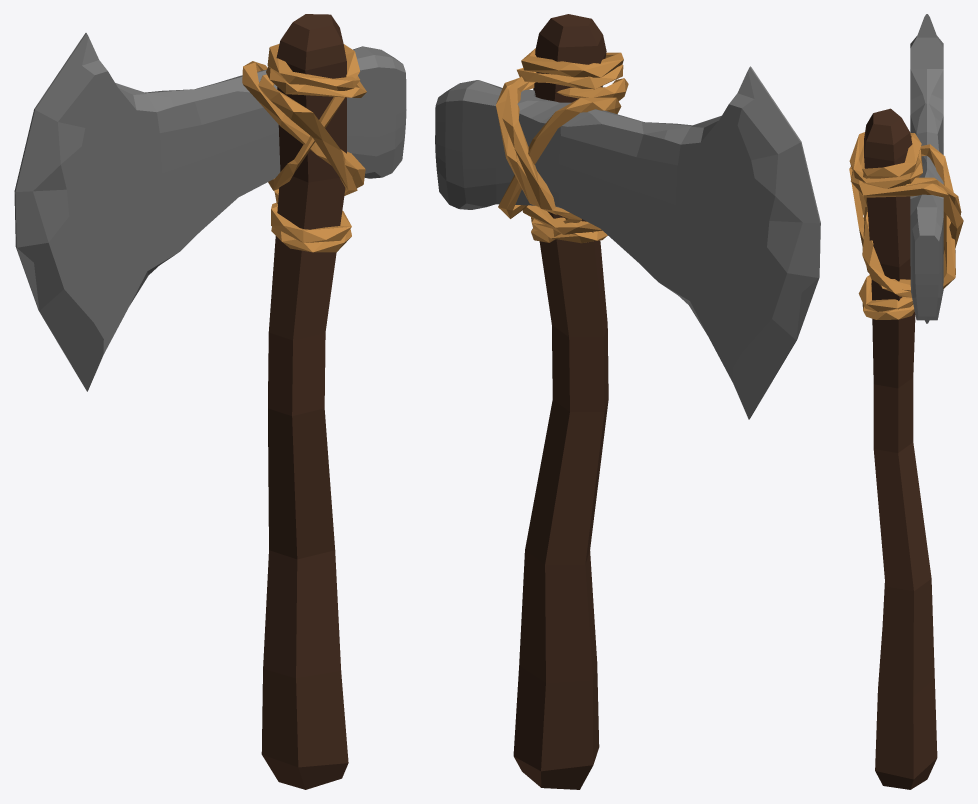
The model's file is axe.fbx.
3 views of the same model, side by side, from view 1: azimuth 30°, elevation 25°; view 2: azimuth 150°, elevation 25°; view 3: azimuth 270°, elevation 25° (orthographic). The views are drawn at different scales.
Parts seen in each view (by area): view 1: Axe; view 2: Axe; view 3: Axe.
Part boxes in pixels (left/top/right/bottom): Axe: left=14, top=14, right=406, bottom=789; Axe: left=435, top=14, right=820, bottom=789; Axe: left=849, top=14, right=963, bottom=789.
Size of the model in its own units: 120 by 235 by 35.91.
